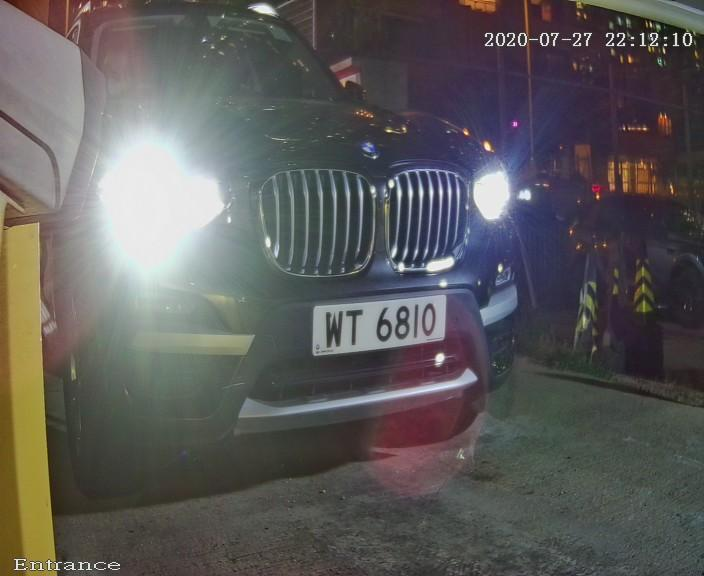privatecar: (41, 8, 551, 497)
